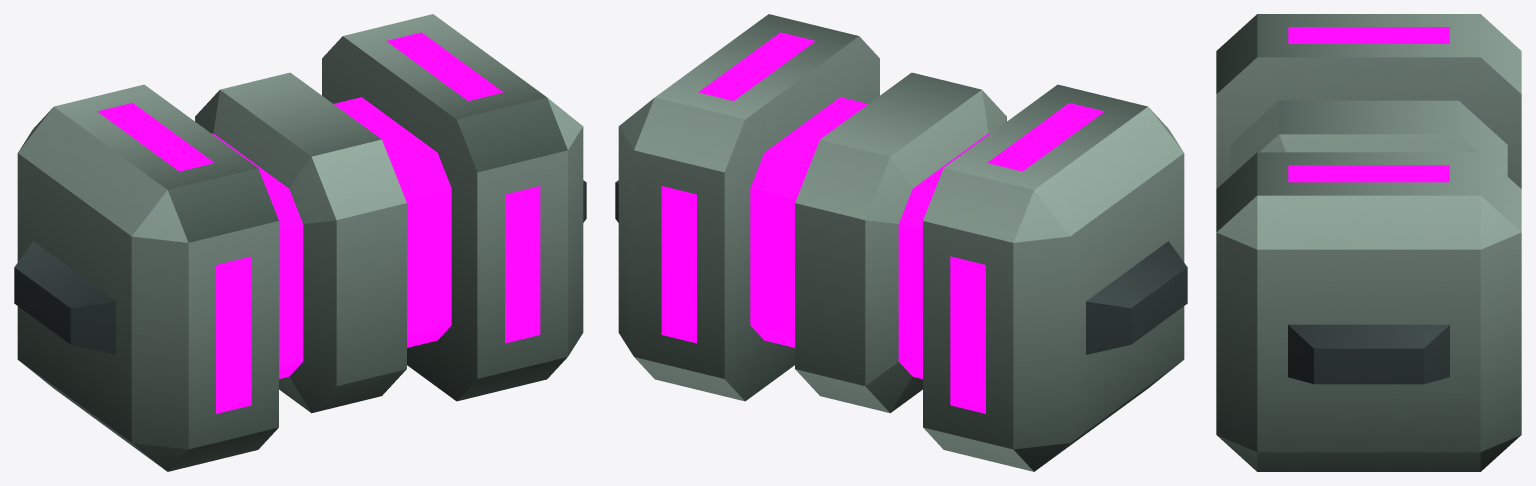
The model's file is item_013.fbx.
3 renders of one model, left to right at view 1: azimuth 30°, elevation 25°; view 2: azimuth 150°, elevation 25°; view 3: azimuth 270°, elevation 25°, orthographic. The views are drawn at different scales.
Parts seen in each view (by area): view 1: item.013; view 2: item.013; view 3: item.013.
Part boxes in pixels (box(x1,y1,x2,y2)): item.013: box(14, 14, 586, 471); item.013: box(615, 14, 1187, 471); item.013: box(1216, 14, 1521, 471).
Bounding box in the file's own units: 186 × 97.31 × 97.31.
